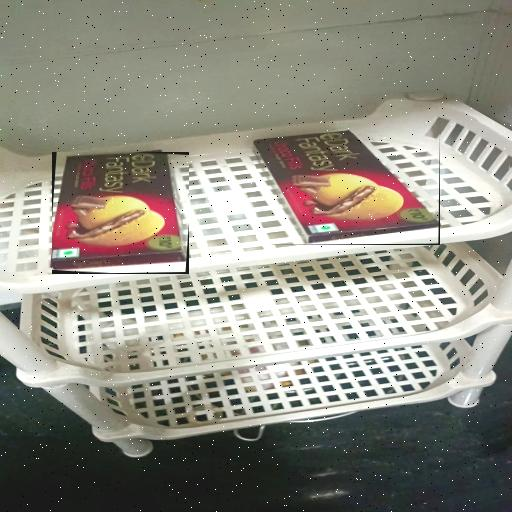Choco Fills: (256, 133, 440, 245), (52, 152, 189, 274)
